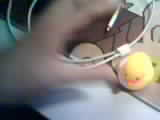duck: (107, 46, 149, 89)
